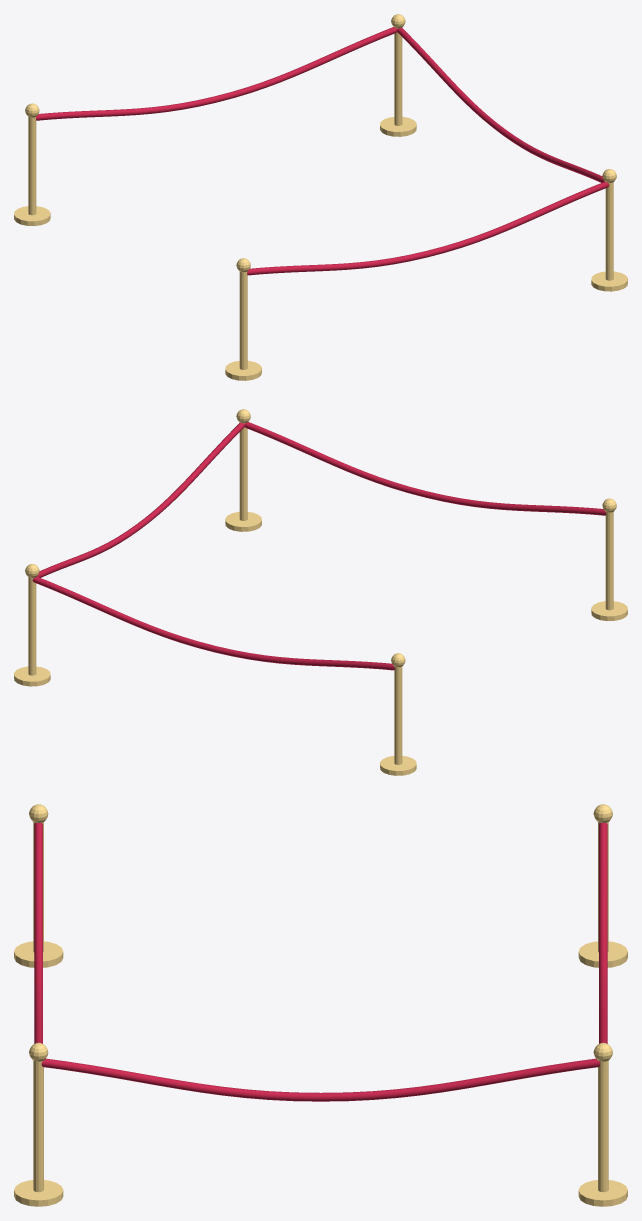
The model's file is ropes.glb.
3 renders of one model, top to bottom at view 1: azimuth 30°, elevation 25°; view 2: azimuth 150°, elevation 25°; view 3: azimuth 270°, elevation 25°, orthographic. The views are drawn at different scales.
Parts seen in each view (by area): view 1: Ropes; view 2: Ropes; view 3: Ropes.
Part boxes in pixels (bbox=[...]): Ropes: bbox=[14, 14, 627, 380]; Ropes: bbox=[14, 409, 627, 775]; Ropes: bbox=[14, 804, 627, 1206].
Size of the model in its own units: 3.48 by 0.955 by 3.48.
